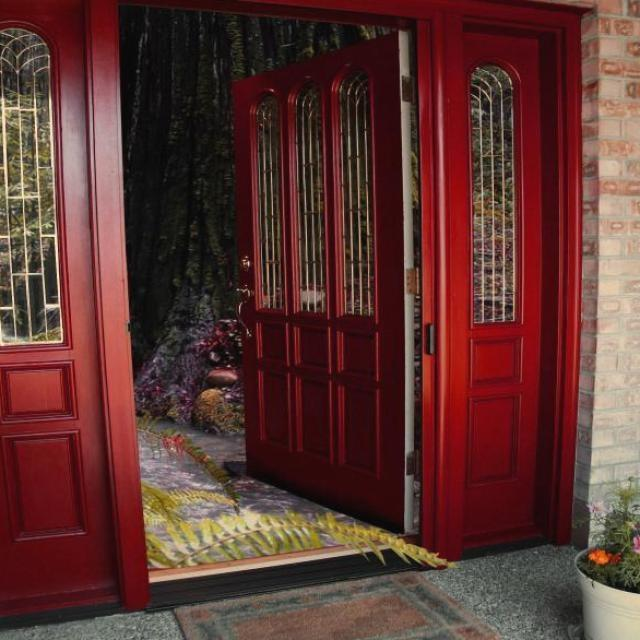door: (230, 28, 410, 534)
